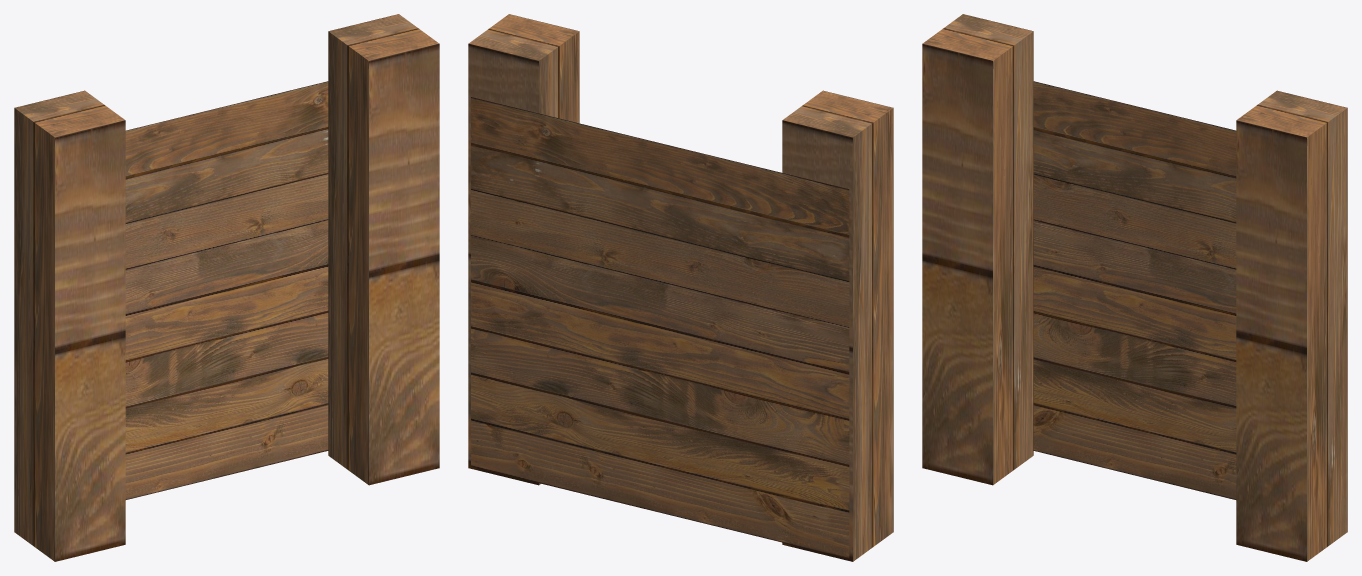
Rendered from woodParapet_Mesh.fbx.
3 views of the same model, side by side, from view 1: azimuth 30°, elevation 25°; view 2: azimuth 150°, elevation 25°; view 3: azimuth 330°, elevation 25° (orthographic).
Visible parts, largest first — view 1: pPlane1, woodPlank_Mesh31, woodPlank_Mesh32; view 2: pPlane1, woodPlank_Mesh32, woodPlank_Mesh31; view 3: pPlane1, woodPlank_Mesh31, woodPlank_Mesh32.
Part boxes in pixels (<box>): pPlane1: <box>125,81,328,499</box>; woodPlank_Mesh31: <box>328,14,439,485</box>; woodPlank_Mesh32: <box>14,90,125,561</box>; pPlane1: <box>471,97,849,558</box>; woodPlank_Mesh32: <box>782,90,893,561</box>; woodPlank_Mesh31: <box>468,14,579,485</box>; pPlane1: <box>1033,81,1236,499</box>; woodPlank_Mesh31: <box>1236,90,1347,561</box>; woodPlank_Mesh32: <box>922,14,1033,485</box>.
Bounding box in the file's own units: 31.77 × 33.5 × 6.01.
1 material, 1 textured.
